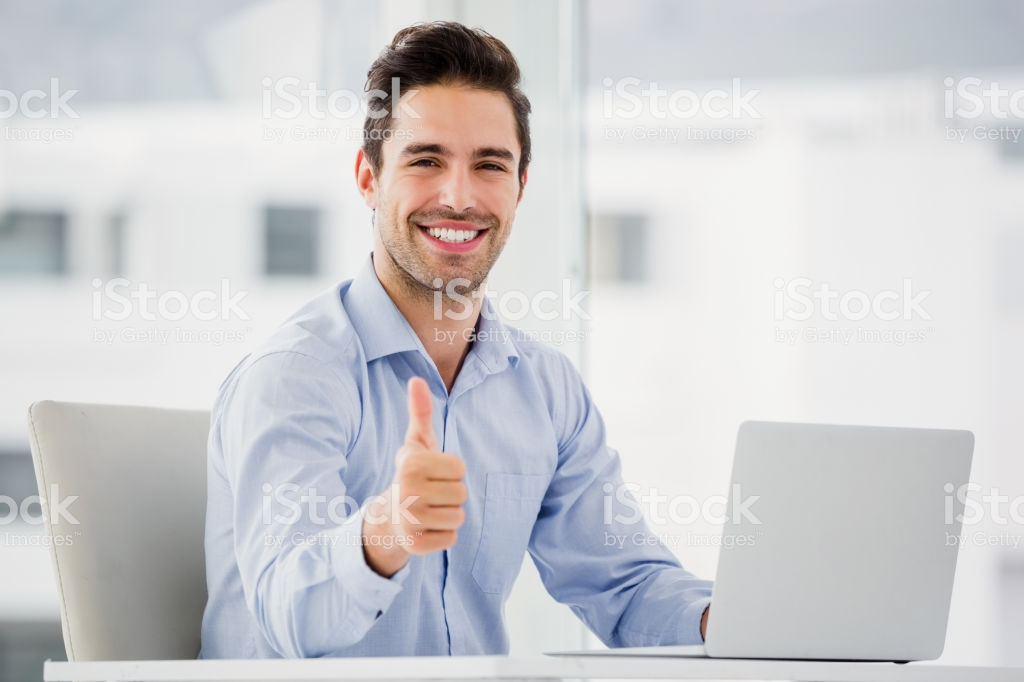thumbsup: (392, 372, 470, 555)
